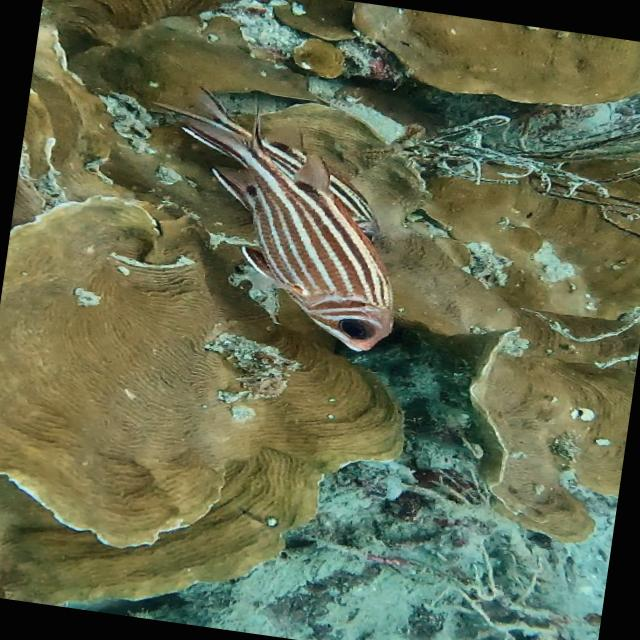Asker Baligi: (120, 78, 426, 358)
